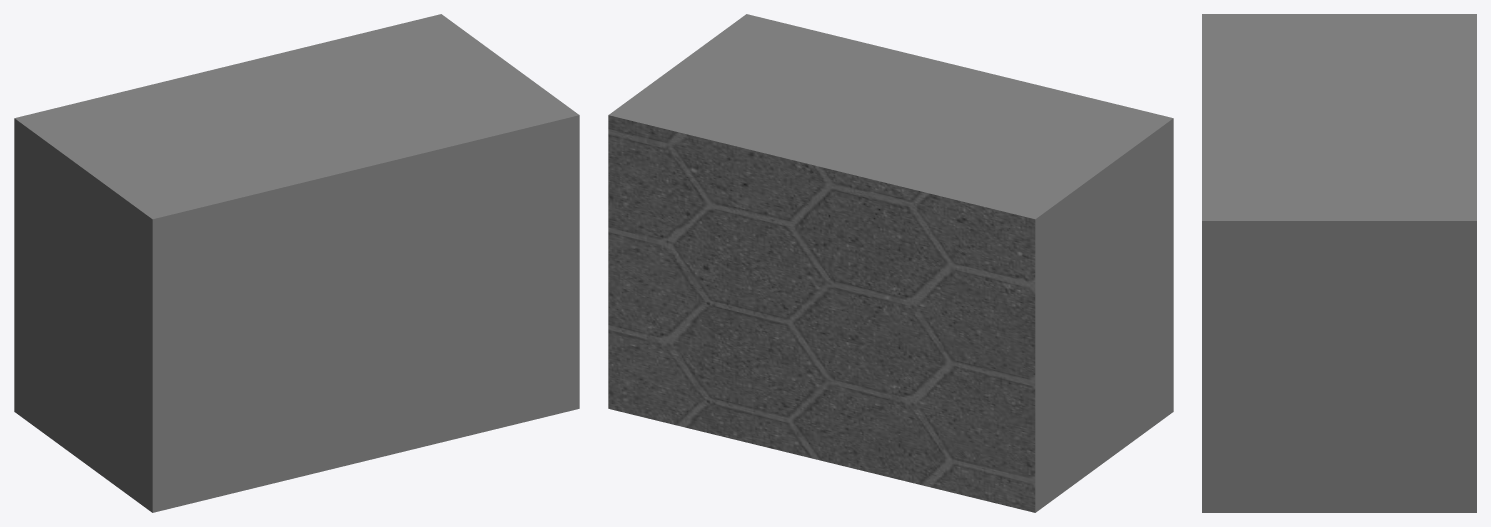
3 renders of one model, left to right at view 1: azimuth 30°, elevation 25°; view 2: azimuth 150°, elevation 25°; view 3: azimuth 270°, elevation 25°, orthographic.
Visible parts, largest first — view 1: Cube.016; view 2: Cube.016; view 3: Cube.016.
Part boxes in pixels (x1=…): Cube.016: x1=14, y1=14, x2=579, y2=512; Cube.016: x1=608, y1=14, x2=1173, y2=512; Cube.016: x1=1202, y1=14, x2=1476, y2=512.
Bounding box in the file's own units: 0.2164 × 0.1422 × 0.1213.
Materials: 2 (1 with a texture image).
